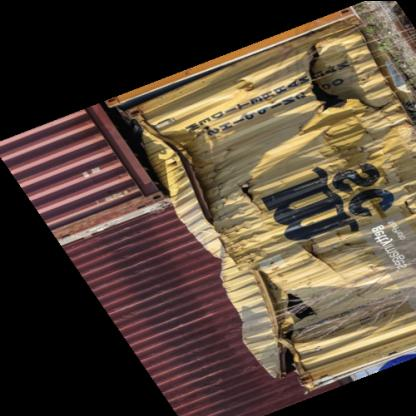Damage: (162, 114, 230, 251), (290, 36, 362, 130), (256, 282, 310, 384), (323, 150, 409, 196), (230, 179, 268, 231), (294, 240, 334, 274)
